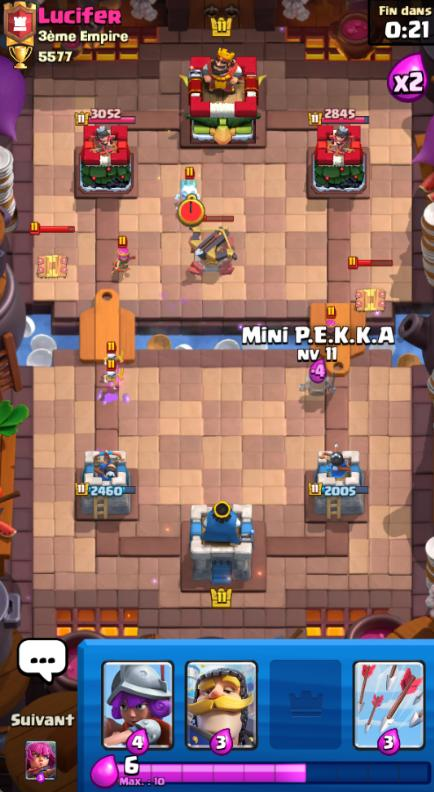archere: (112, 249, 138, 275), (322, 320, 341, 344)
mini_PEKKA: (295, 368, 342, 401)
squelette: (100, 370, 126, 390), (102, 353, 125, 364)
